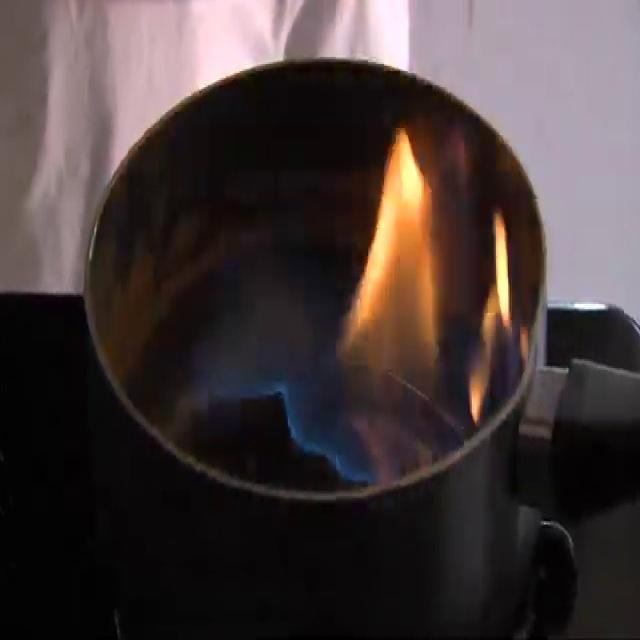fire: (286, 88, 525, 496)
